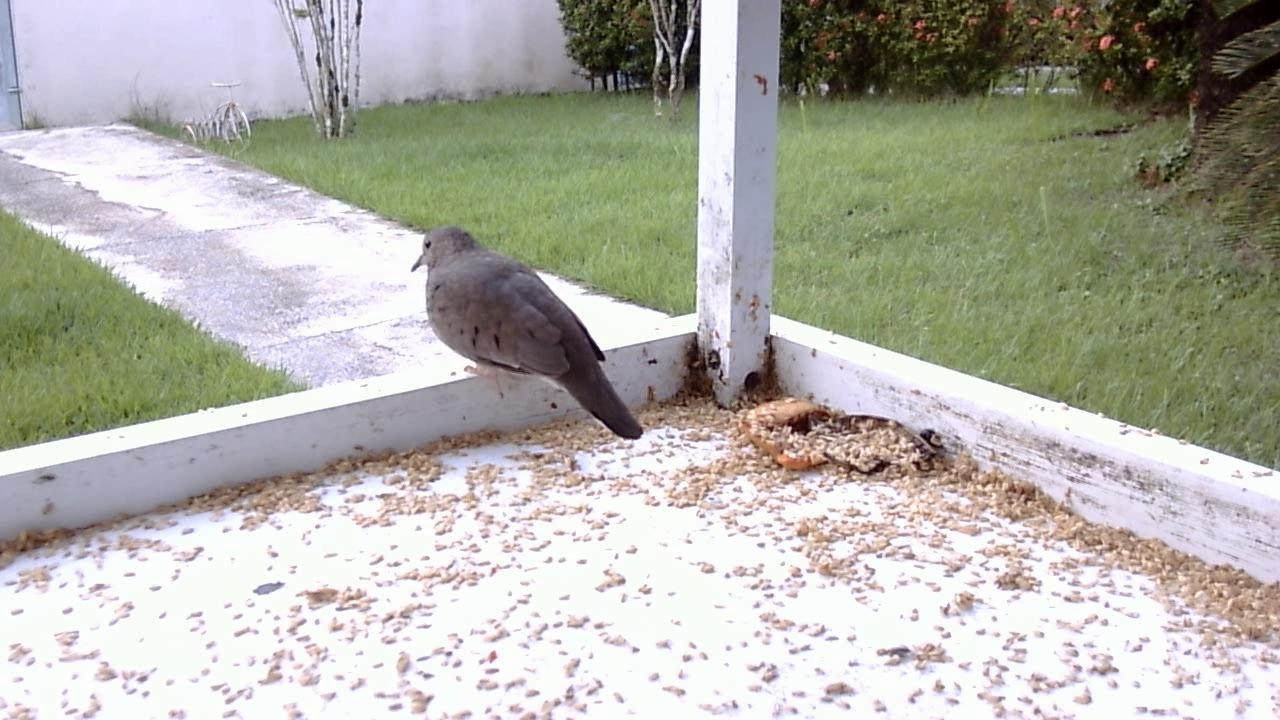rolinha: (403, 218, 646, 445)
